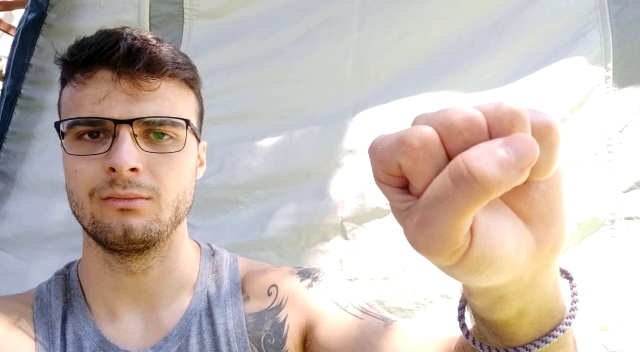Fist: (353, 94, 568, 271)
